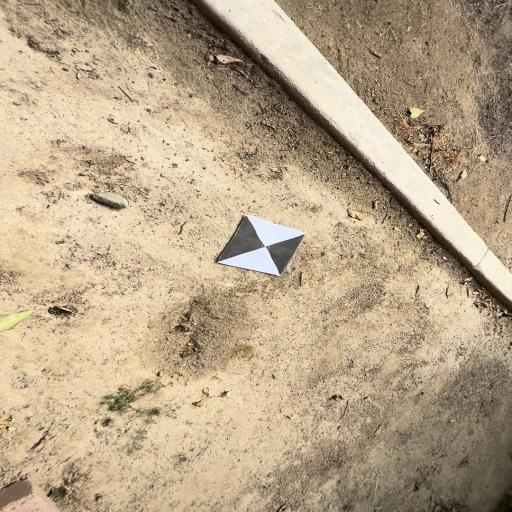target: (217, 215, 305, 276)
